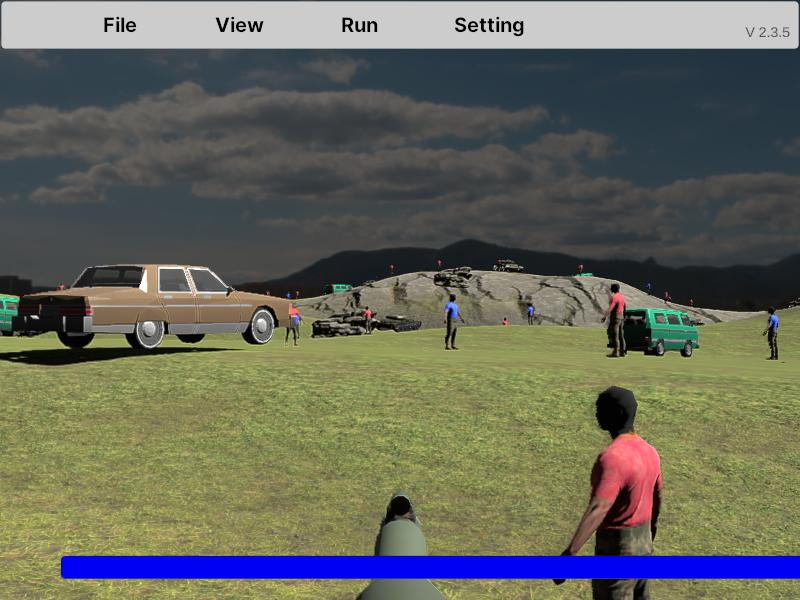Human: (555, 384, 662, 600), (604, 282, 627, 357), (444, 293, 464, 351), (766, 305, 779, 361)
car: (15, 262, 285, 350), (607, 308, 700, 358)
